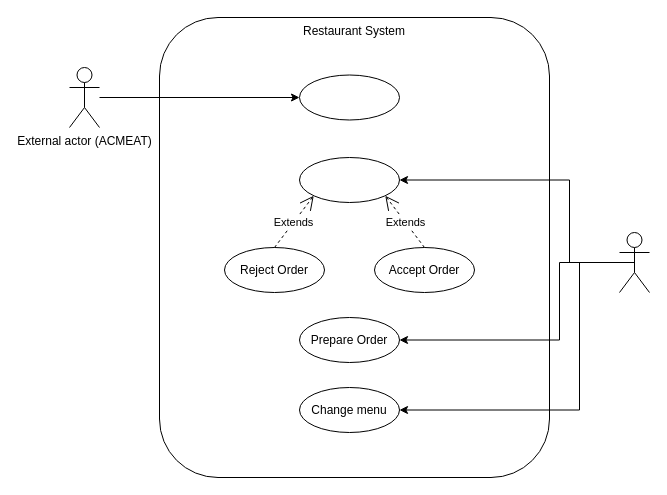
This 667x495 diagram has some shape labels left out. Here are the shapes that lost their labels. From the top down, the centre of each, then its label:
point 349,97: Submit Order
point 349,179: Evaluate Order
point 634,262: Cook
